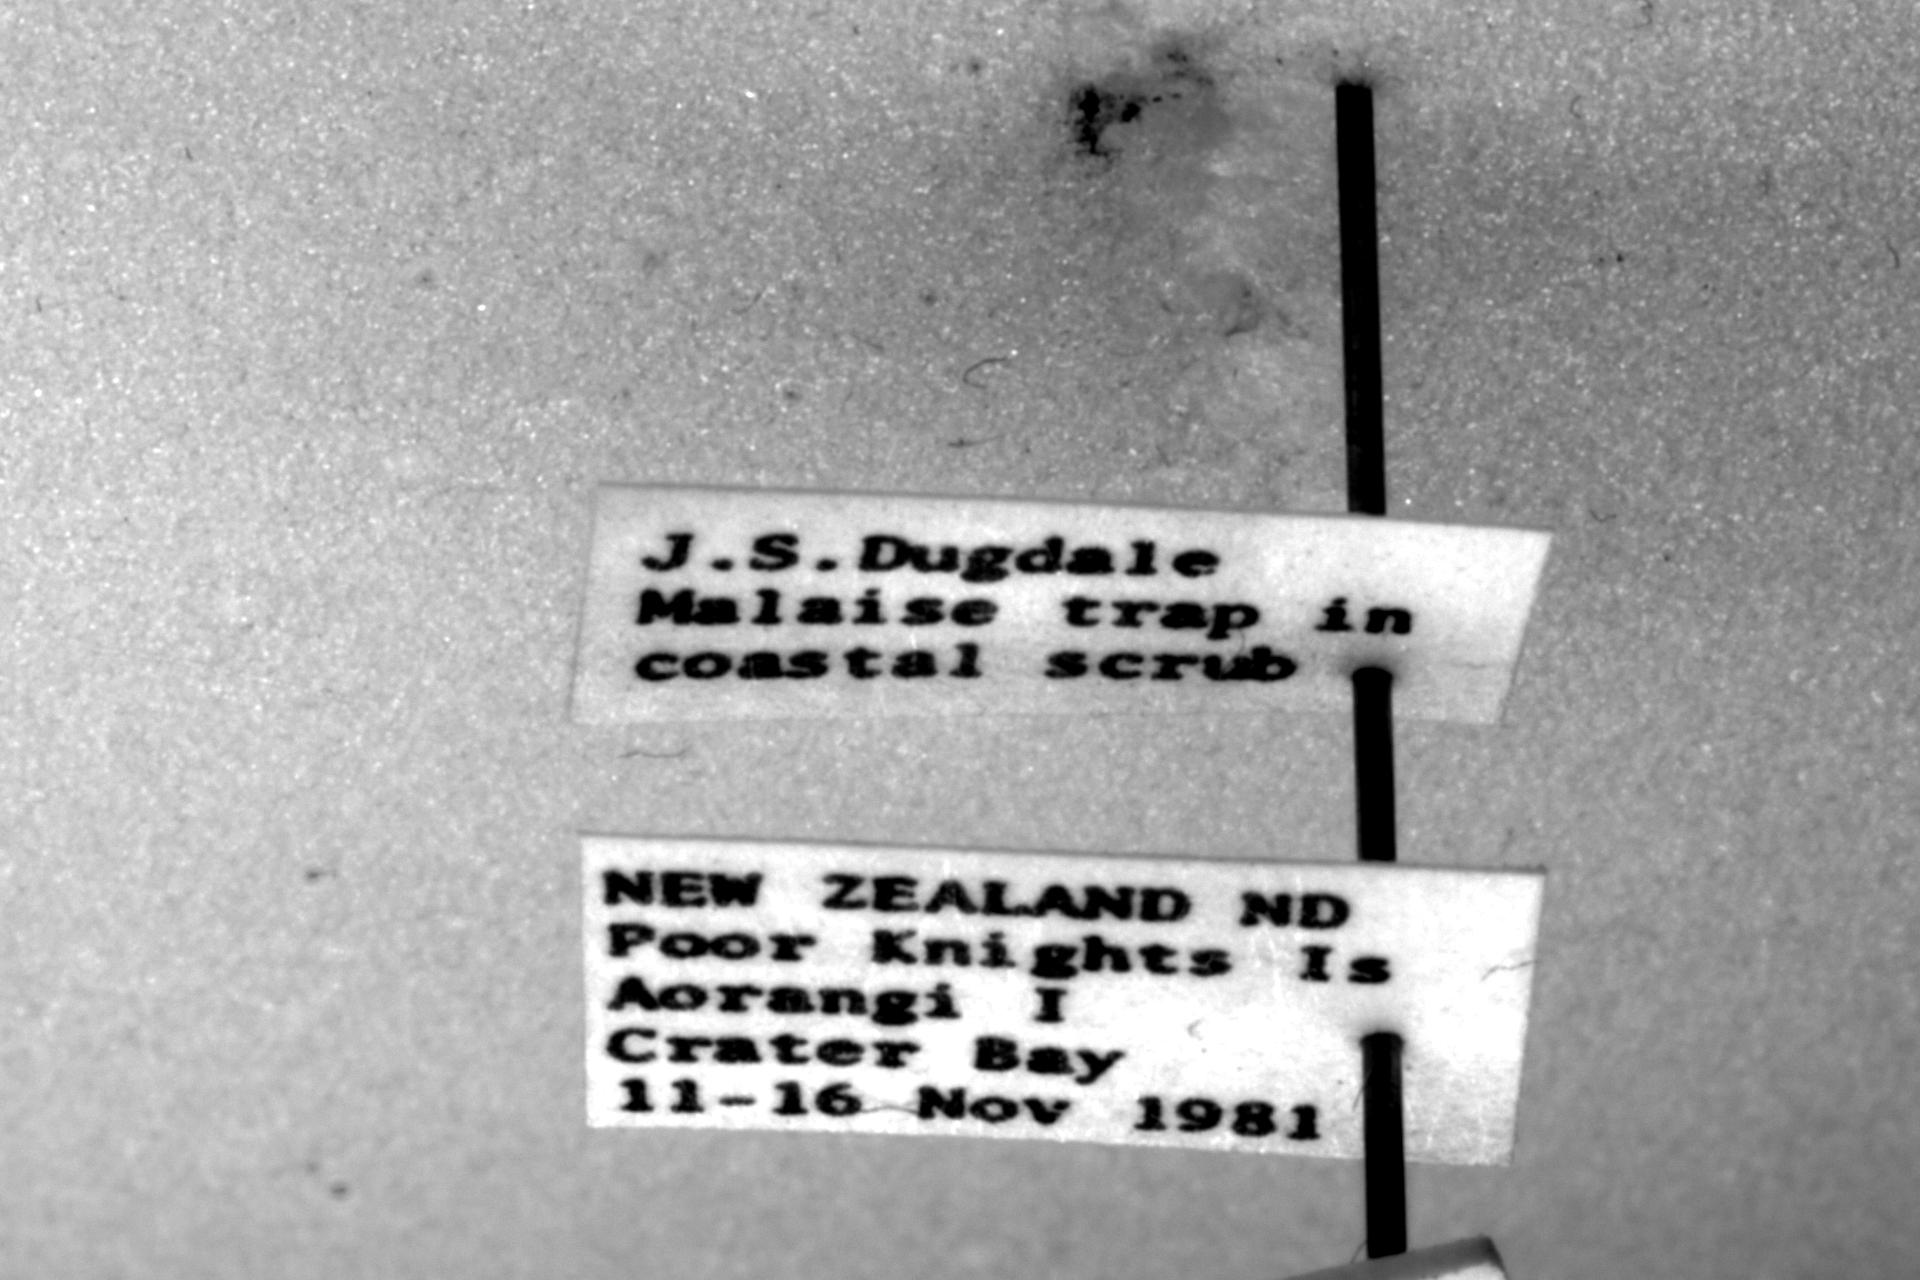typed_label: (581, 836, 1546, 1166), (574, 487, 1549, 724)
